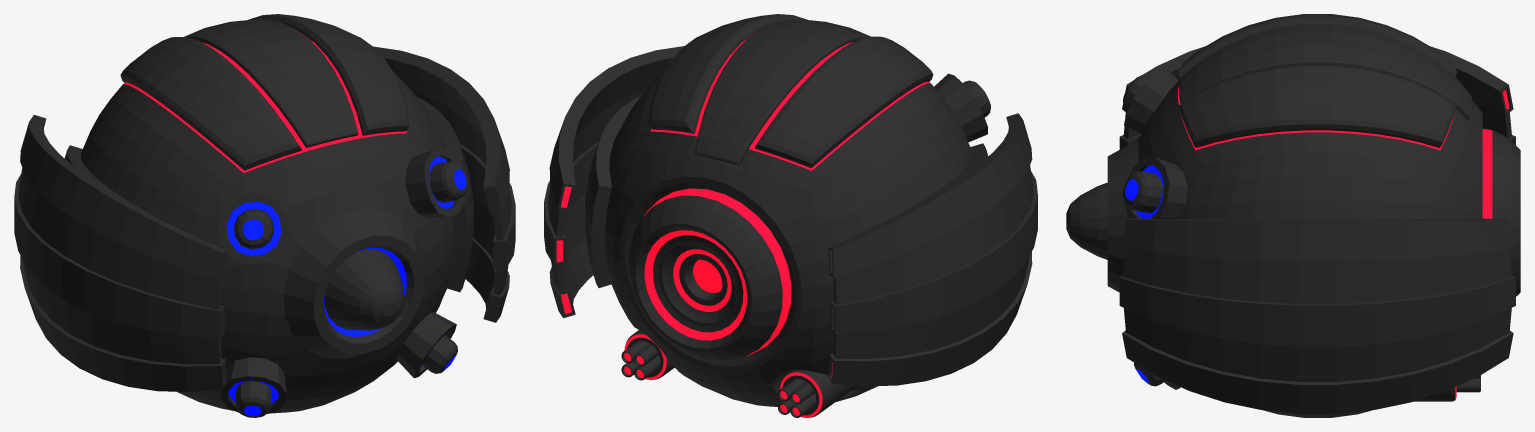
Rendered from Boss2.fbx.
The picture shows the model from 3 angles, left to right: view 1: azimuth 30°, elevation 25°; view 2: azimuth 150°, elevation 25°; view 3: azimuth 270°, elevation 25°; orthographic projection. The views are drawn at different scales.
Visible parts, largest first — view 1: Boss, bossOuterBody; view 2: Boss, bossOuterBody; view 3: Boss, bossOuterBody.
Part boxes in pixels (x1,y1,x2,y2): Boss: [64, 14, 473, 417]; bossOuterBody: [14, 46, 515, 391]; Boss: [585, 14, 990, 417]; bossOuterBody: [544, 46, 1037, 386]; Boss: [1066, 14, 1520, 417]; bossOuterBody: [1119, 46, 1515, 413].
Bounding box in the file's own units: 2.56 × 2.05 × 2.34.
